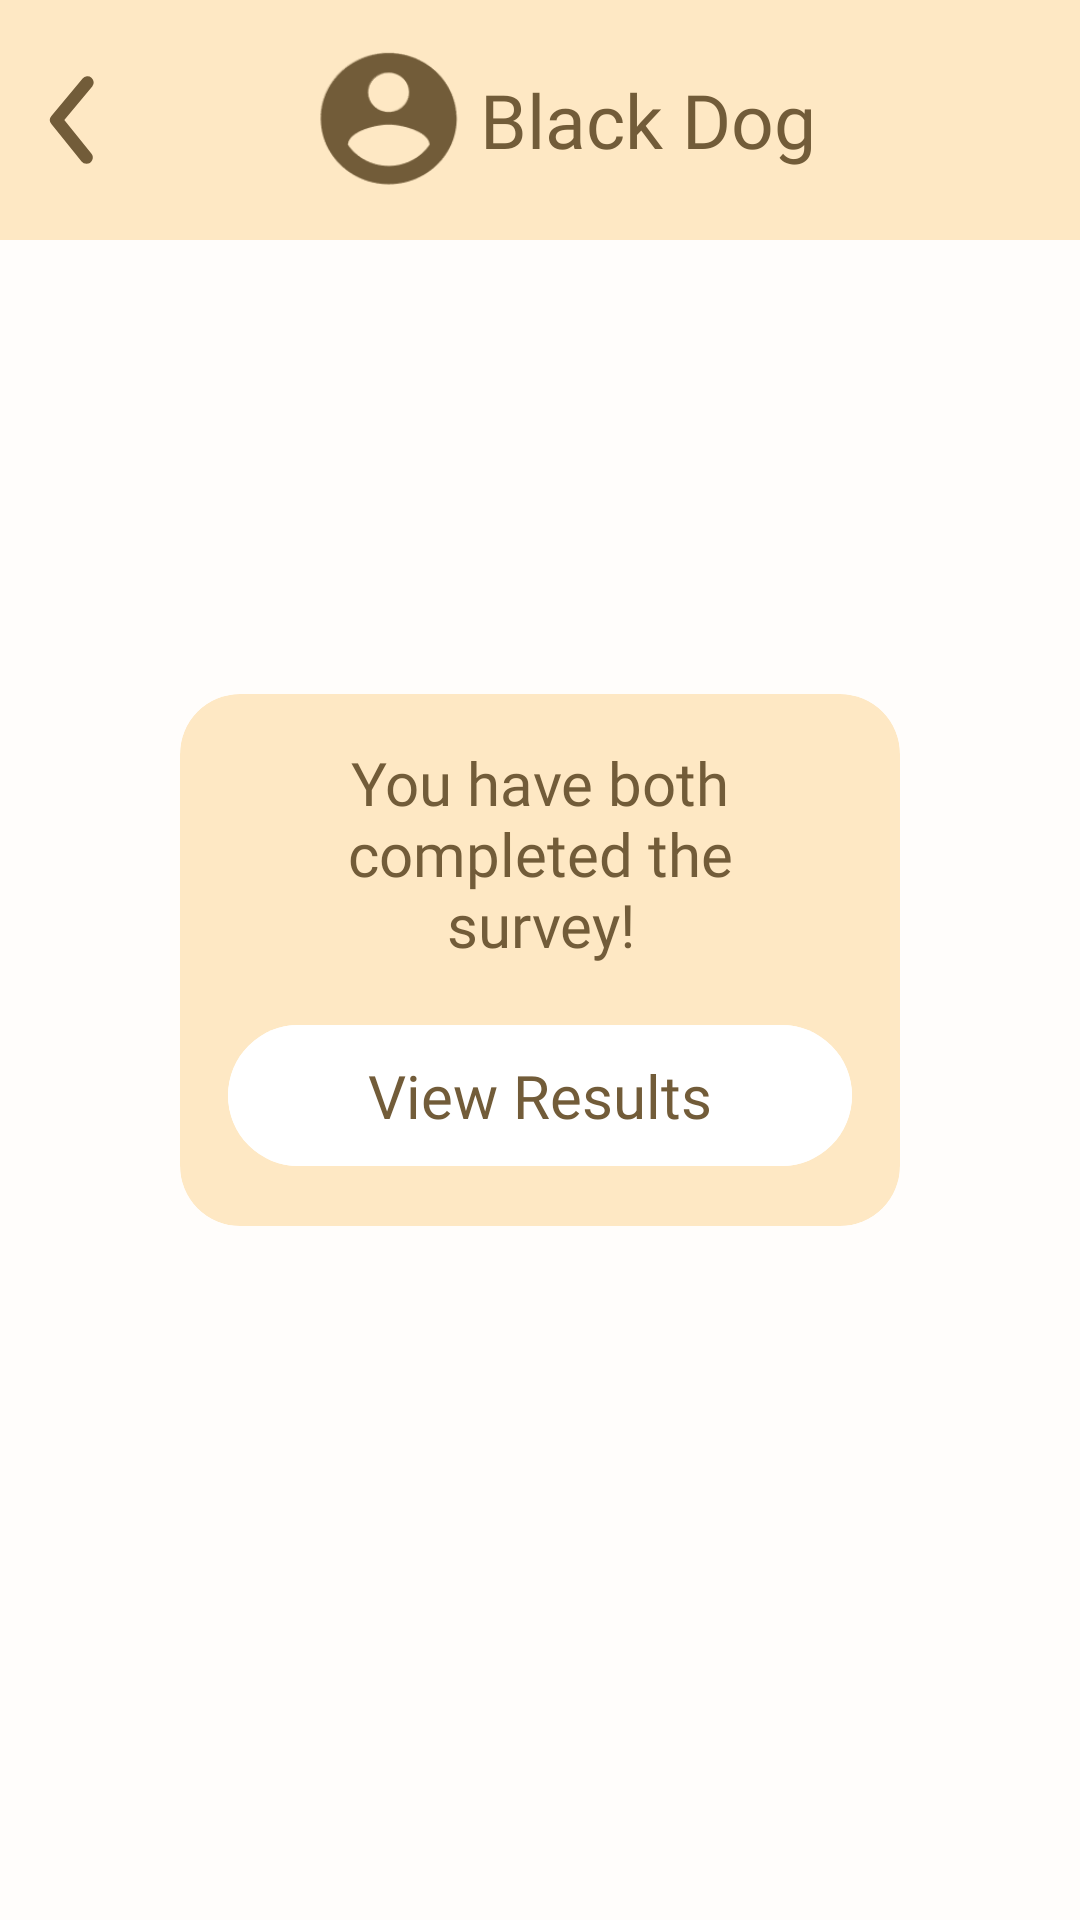

Screen size 1080 x 1920. Icon name, then its center in pixels as (x,y):
on surface profile photo: (388,119)
